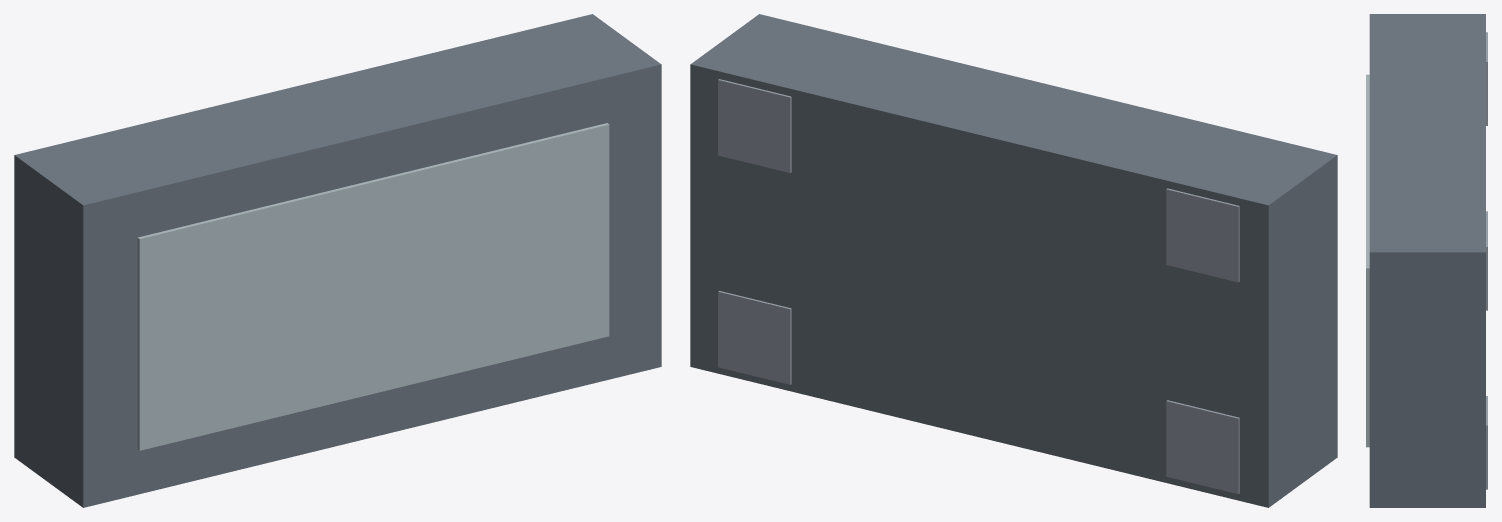
3 renders of one model, left to right at view 1: azimuth 30°, elevation 25°; view 2: azimuth 150°, elevation 25°; view 3: azimuth 270°, elevation 25°, orthographic. The views are drawn at different scales.
Visible parts, largest first — view 1: Y1; view 2: Y1; view 3: Y1.
Part boxes in pixels (x1,y1,x2,y2): Y1: [14, 14, 661, 507]; Y1: [690, 14, 1337, 507]; Y1: [1366, 14, 1487, 507].
Size of the model in its own units: 0.008 by 0.004 by 0.00173.
